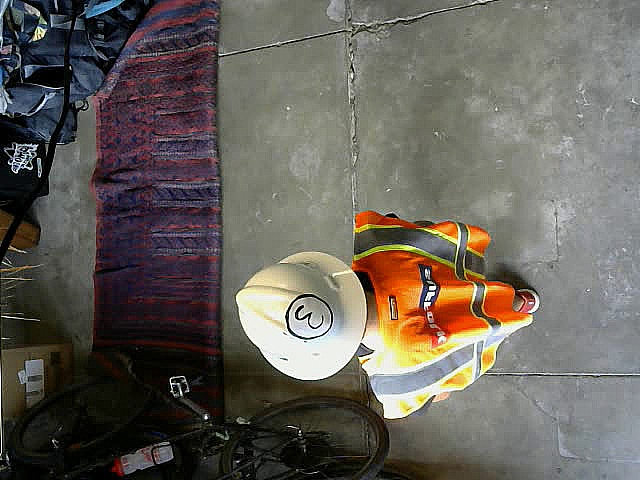three: (284, 293, 333, 340)
